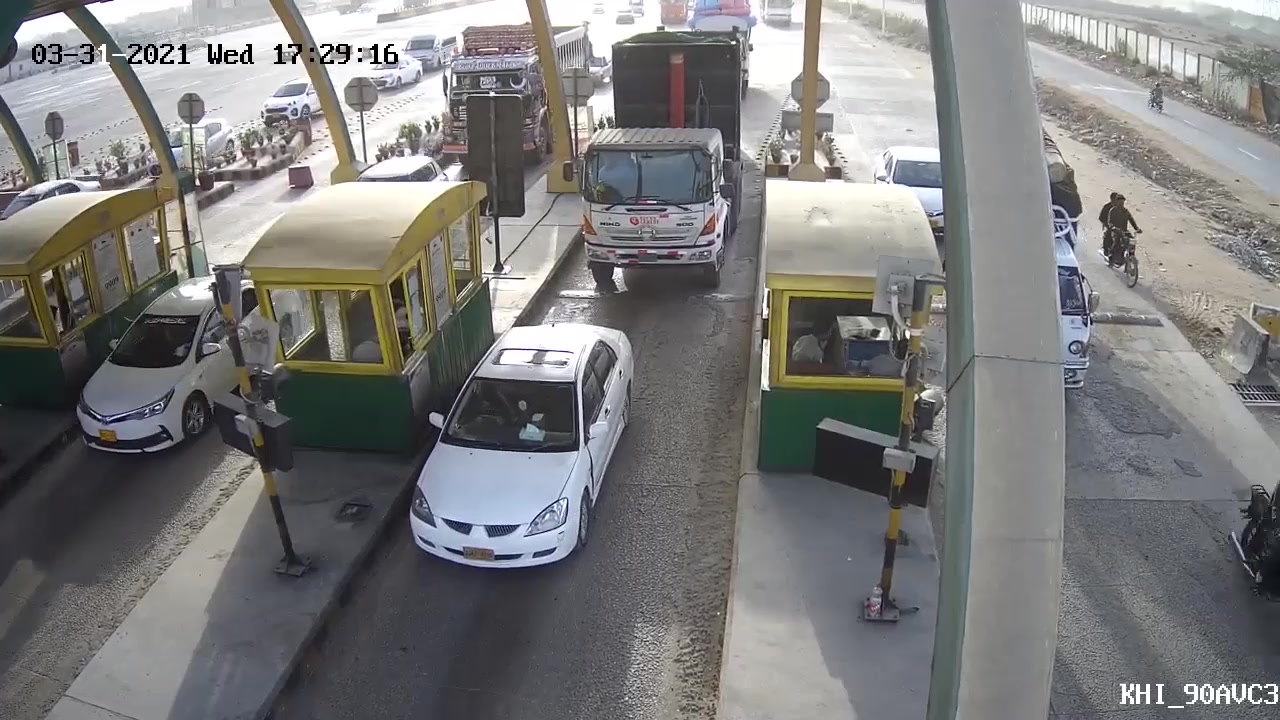F1: (398, 321, 640, 572)
